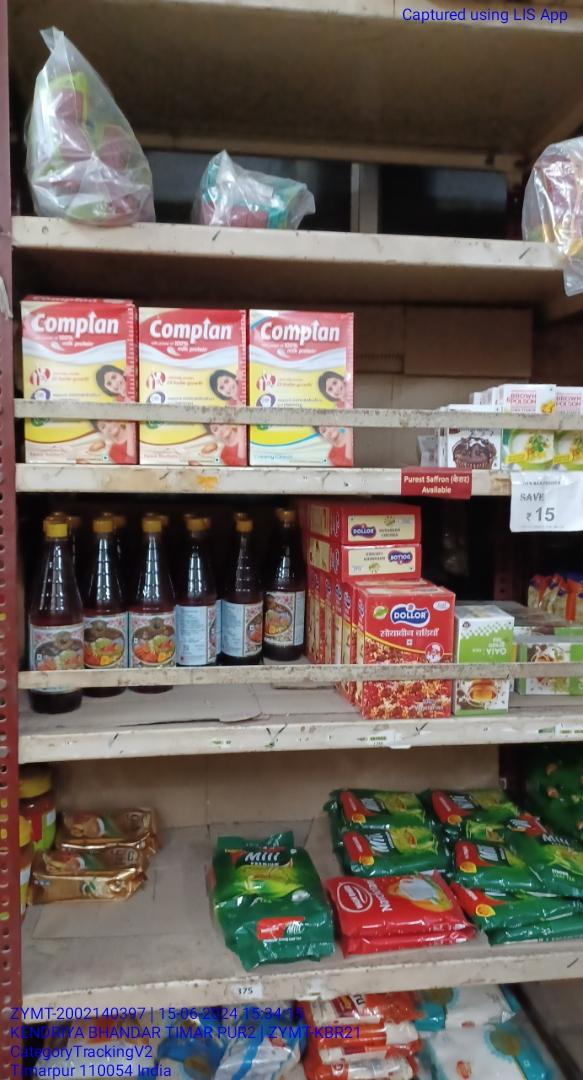COMPLAN_CREAMY_CLASSIC_500_G_PACK: (251, 309, 356, 465)
COMPLAN_KESAR_BADAM_500_GMS_PACK: (23, 302, 136, 465), (140, 306, 245, 466)
